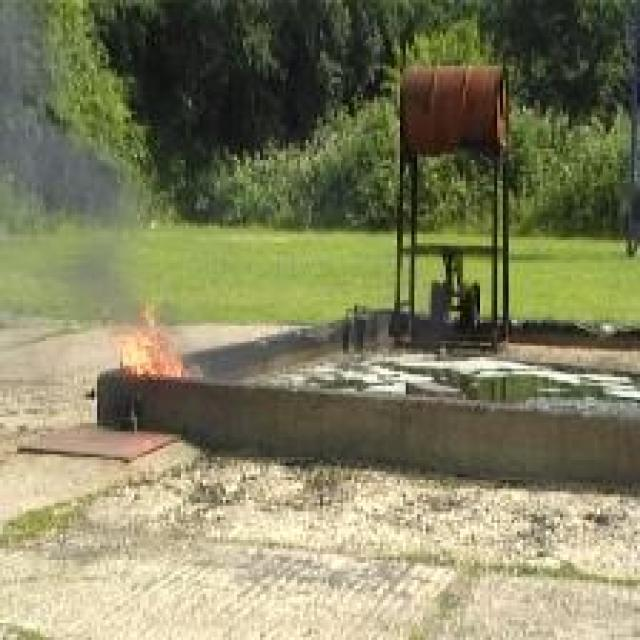Fire: (117, 297, 206, 377)
